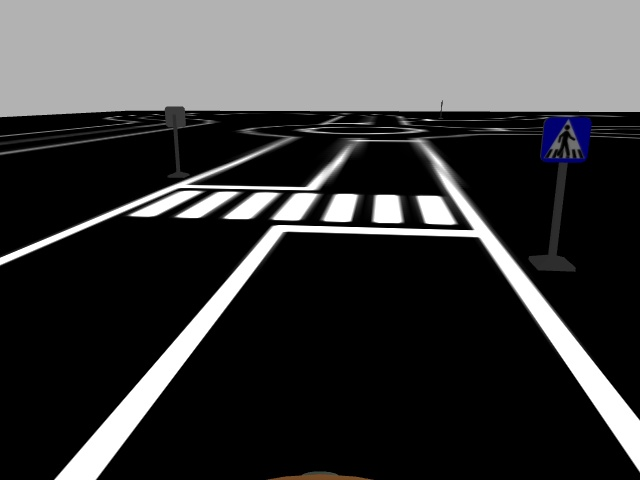crosswalk: (539, 114, 594, 166)
